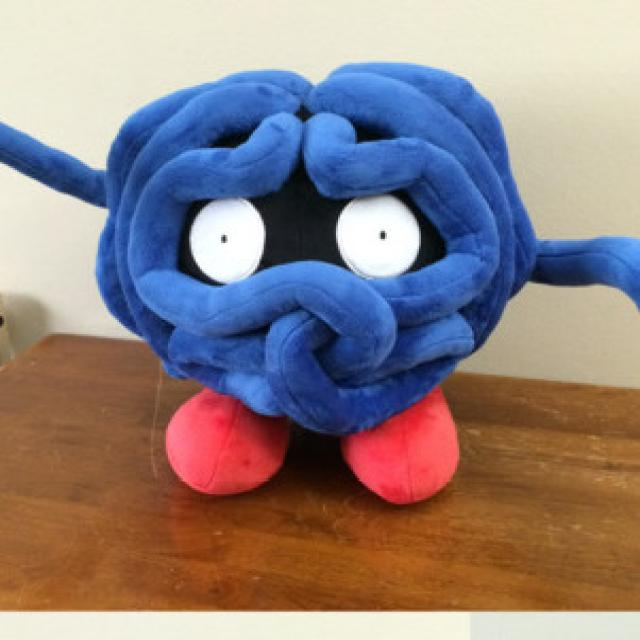Tangela: (74, 50, 540, 506)
